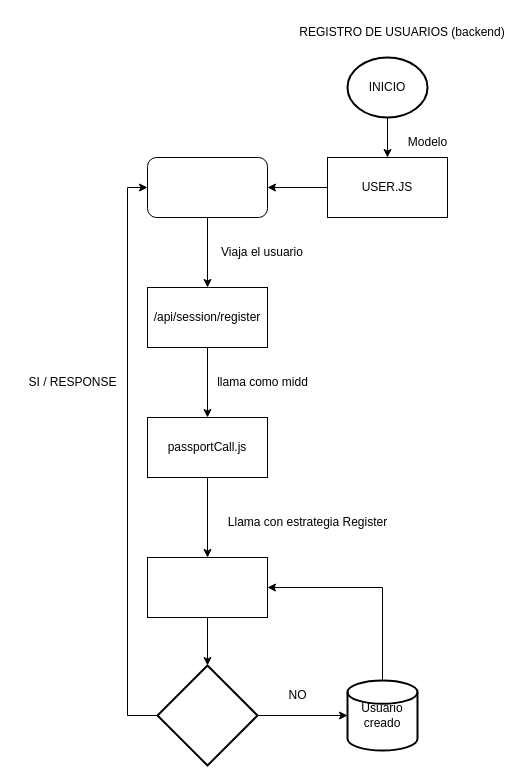
Image size: 524x783. Some labels were removed from this diagram. The shapes that lost their labels are listed below. From the top down, each one's centre as x and y in pixels, then its label:
At (207,187): "ALERT.JS".
At (207,587): "passport.config.js".
At (207,715): "hubo error?".
